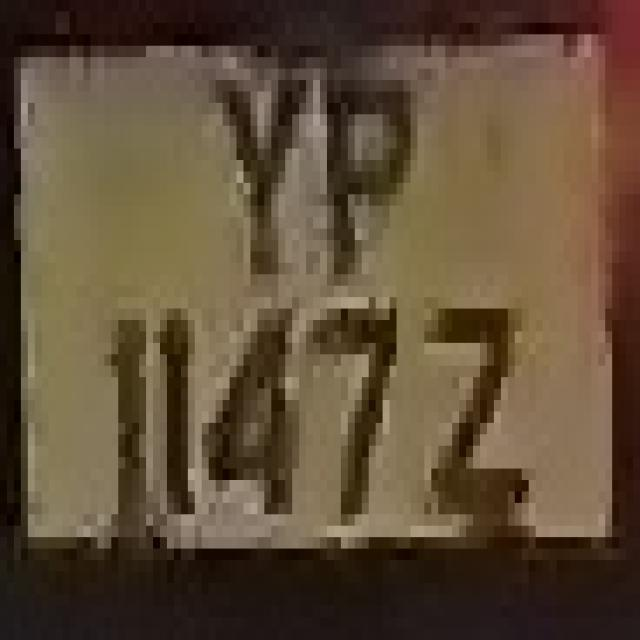1: (125, 252, 188, 572), (97, 263, 146, 514)
4: (188, 263, 313, 560)
7: (286, 240, 410, 571)
P: (313, 46, 417, 274)
Y: (188, 57, 327, 309)
Z: (390, 263, 564, 537)
